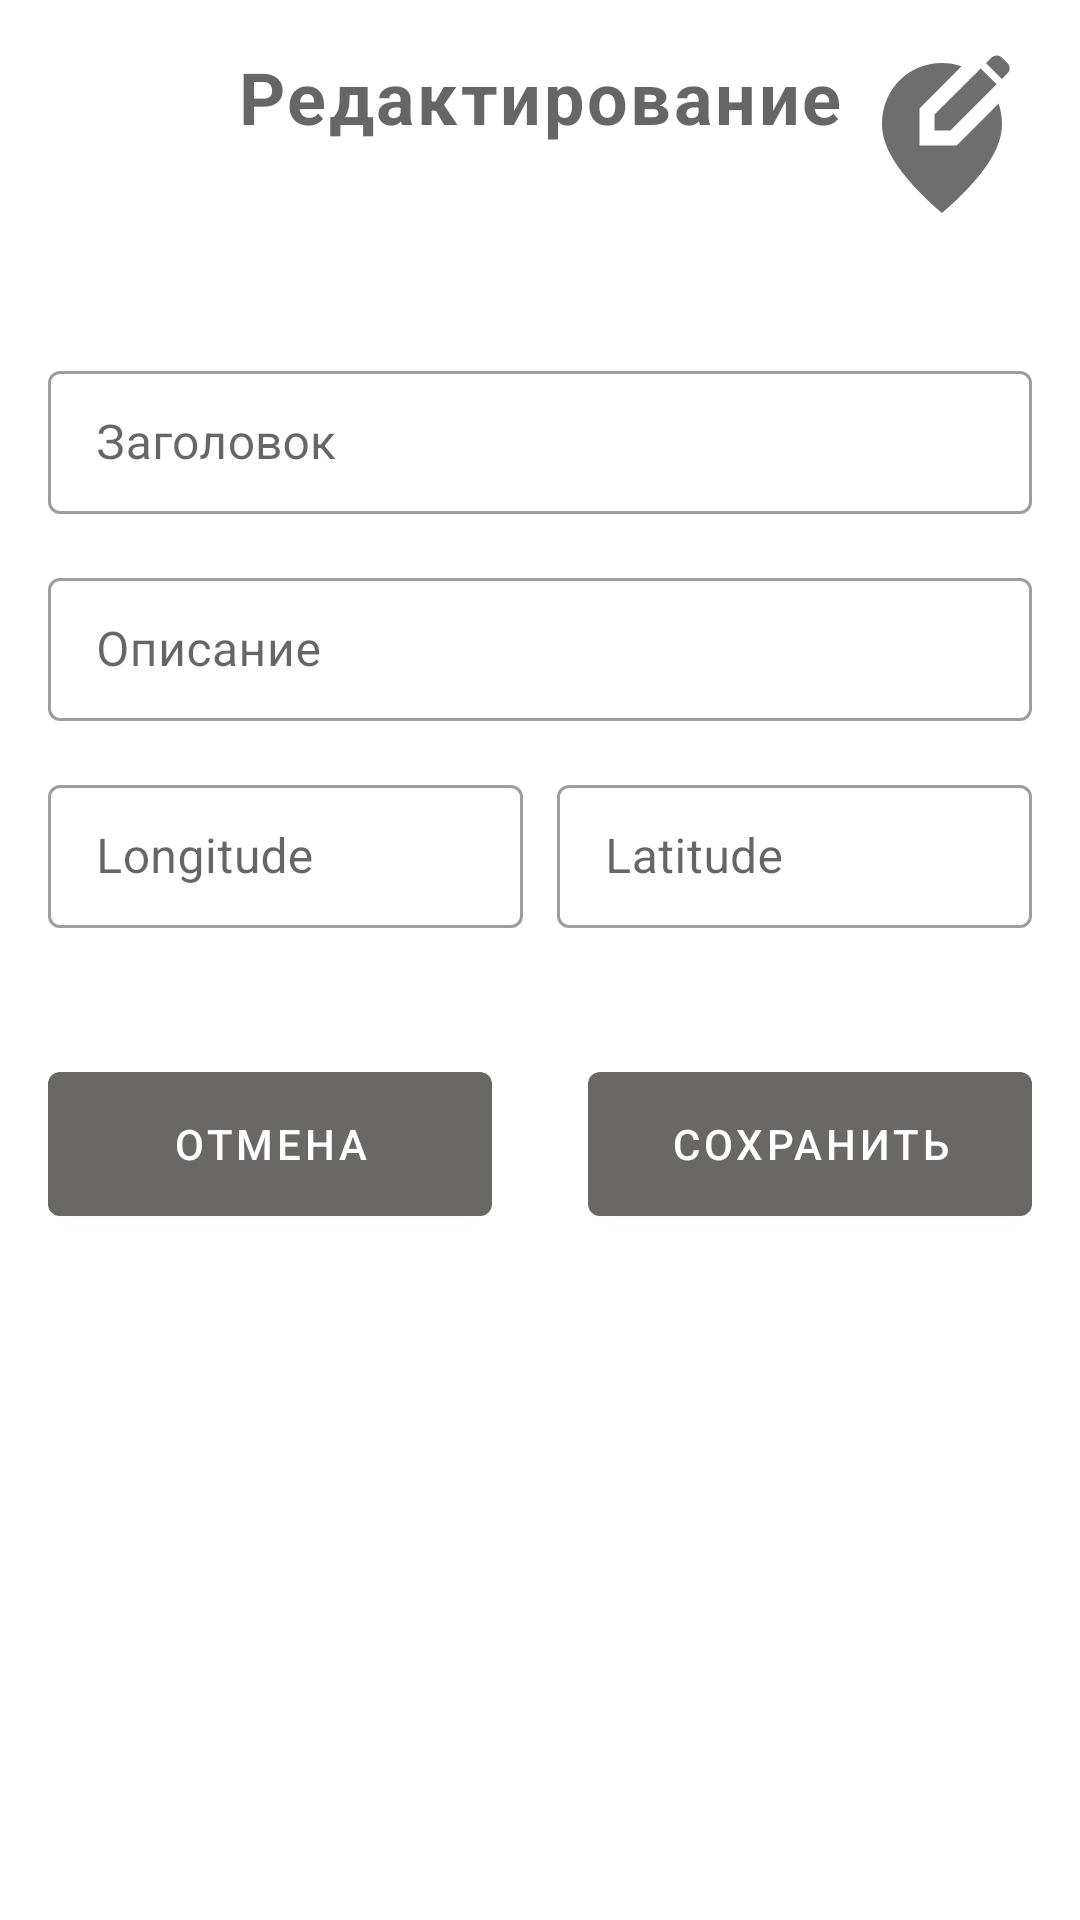

Screen size 1080px x 1920px. Icon name, then its box in pixels as [x1, y1, x2, y2]:
edit location: [882, 55, 1010, 213]
